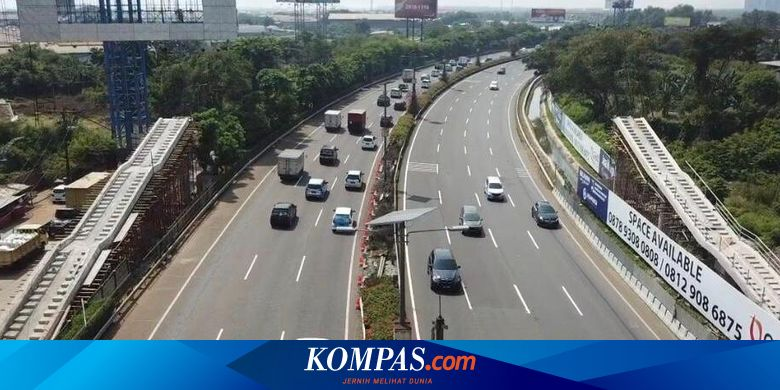car: (429, 247, 461, 297), (458, 203, 486, 236), (278, 149, 304, 183), (532, 203, 560, 230), (272, 202, 297, 232), (306, 177, 329, 204), (333, 207, 354, 236), (485, 177, 505, 204), (347, 109, 367, 135), (324, 109, 343, 134), (344, 170, 363, 191), (319, 145, 337, 165), (362, 135, 378, 151), (381, 114, 394, 128), (377, 95, 390, 107), (395, 100, 407, 112), (490, 81, 499, 91)
